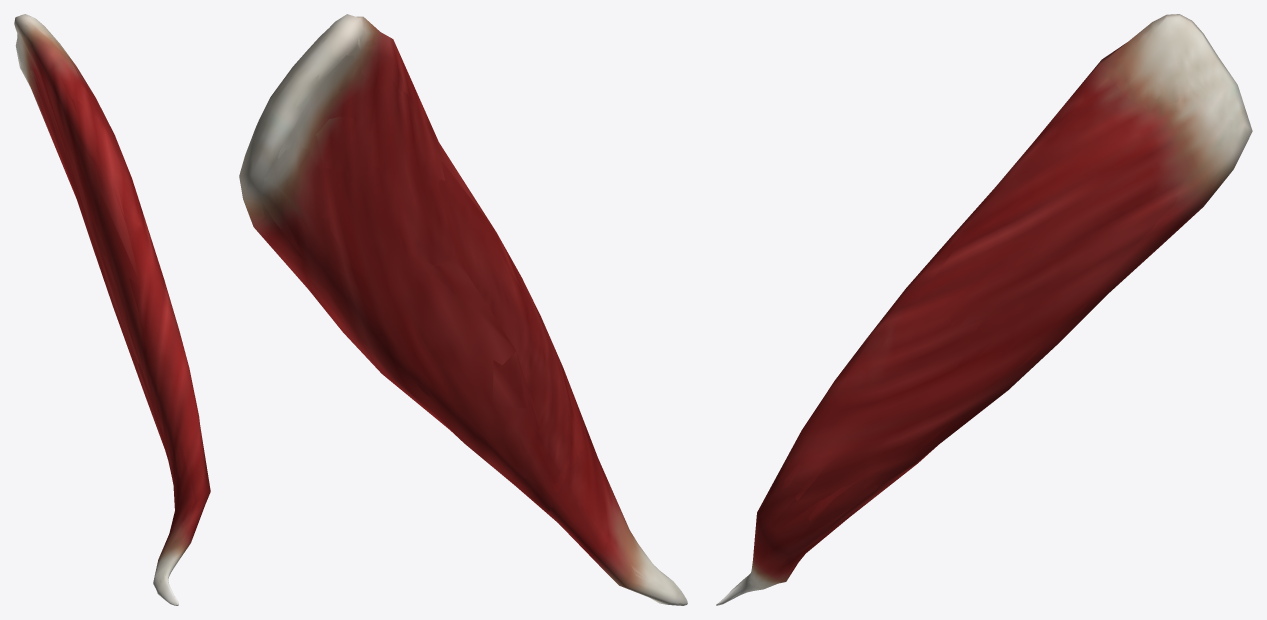
Rendered from L Infraspinatus.fbx.
3 views of the same model, side by side, from view 1: azimuth 30°, elevation 25°; view 2: azimuth 150°, elevation 25°; view 3: azimuth 270°, elevation 25° (orthographic). The views are drawn at different scales.
Visible parts, largest first — view 1: L Infraspinatus, L Infraspinatus low, L Infraspinatus high; view 2: L Infraspinatus low, L Infraspinatus, L Infraspinatus high; view 3: L Infraspinatus, L Infraspinatus low, L Infraspinatus high.
Boxes of the visible parts, box(x1,y1,x2,y2) form: L Infraspinatus: box(14, 14, 210, 605); L Infraspinatus low: box(16, 15, 206, 597); L Infraspinatus high: box(16, 20, 204, 602); L Infraspinatus low: box(240, 15, 682, 605); L Infraspinatus: box(239, 14, 687, 605); L Infraspinatus high: box(247, 23, 685, 604); L Infraspinatus: box(716, 14, 1252, 605); L Infraspinatus low: box(724, 14, 1248, 602); L Infraspinatus high: box(720, 19, 1234, 604).
Size of the model in its own units: 1.22 by 6.14 by 4.94.
